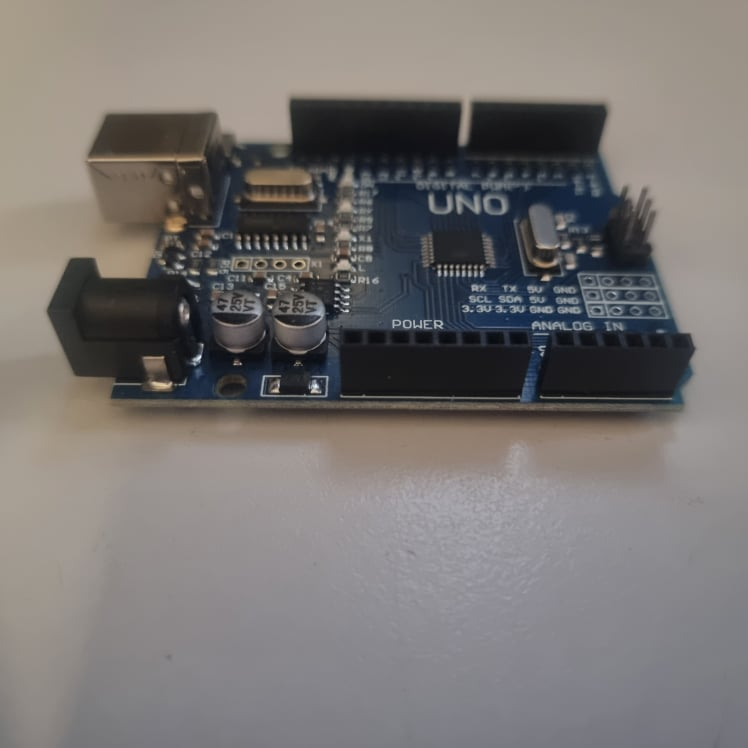UNO R3: (46, 92, 697, 416)
